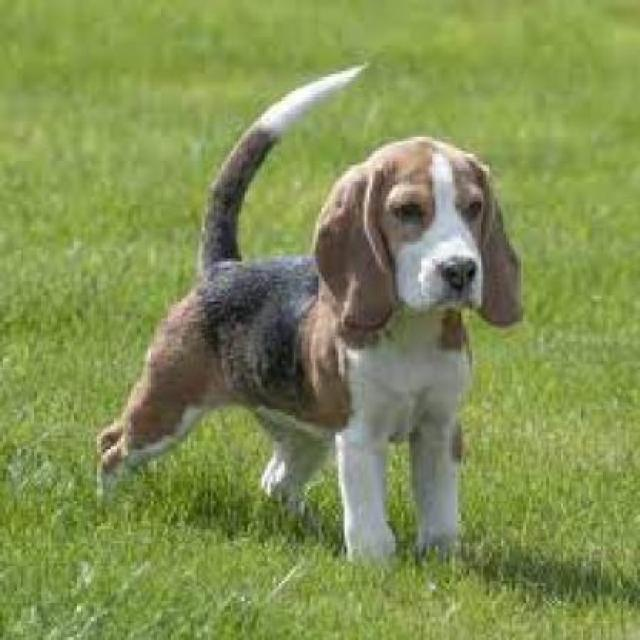Dog: (88, 58, 522, 580)
